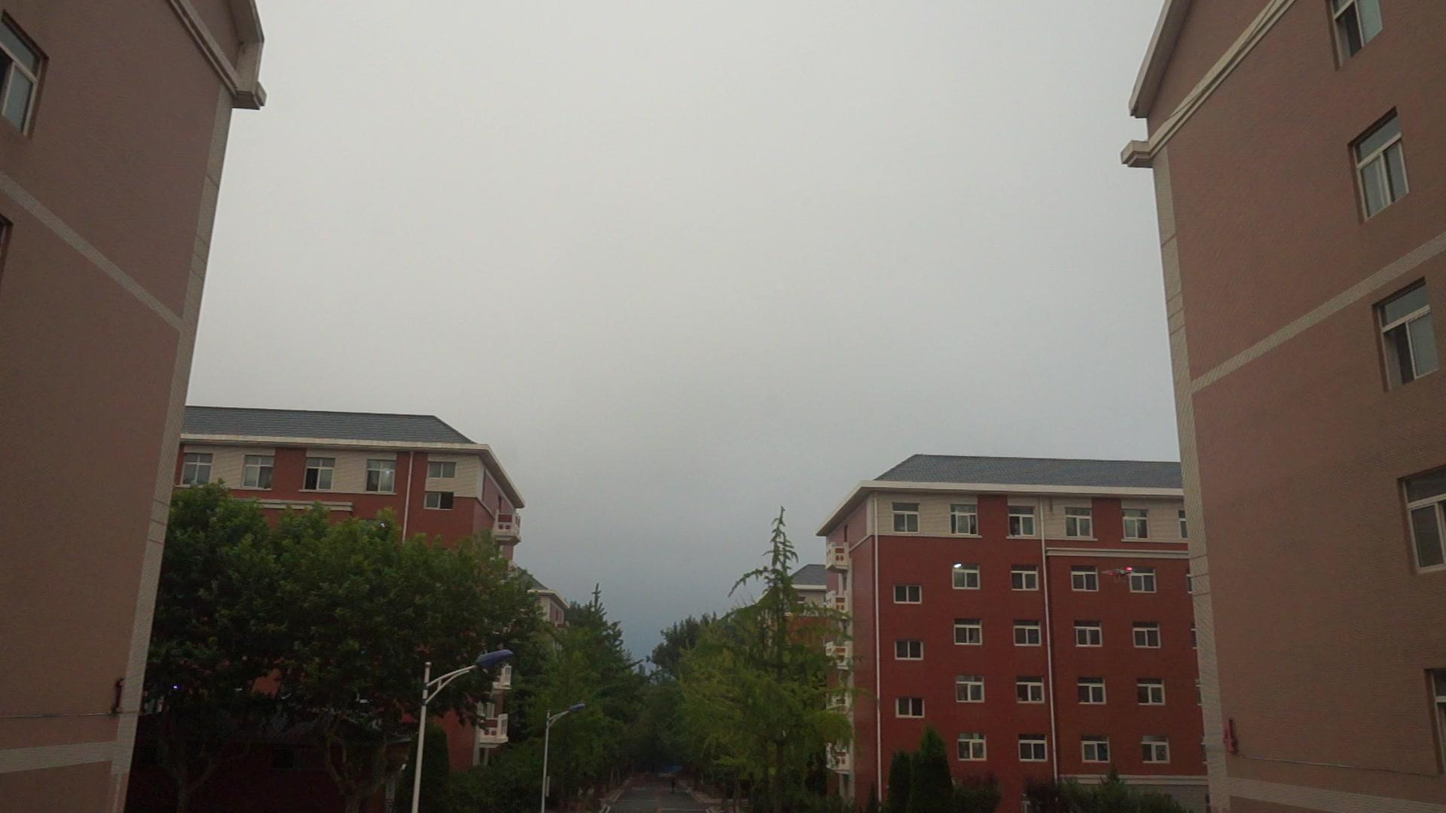UAV: (1102, 567, 1136, 583)
